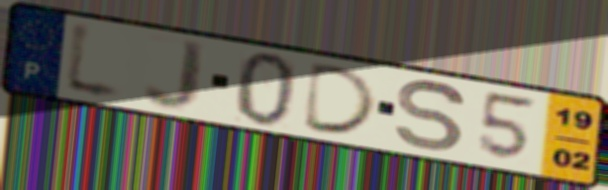0: (231, 51, 300, 128)
5: (474, 87, 541, 164)
D: (299, 60, 382, 138)
J: (140, 37, 210, 114)
L: (60, 17, 129, 107)
S: (393, 78, 470, 155)
